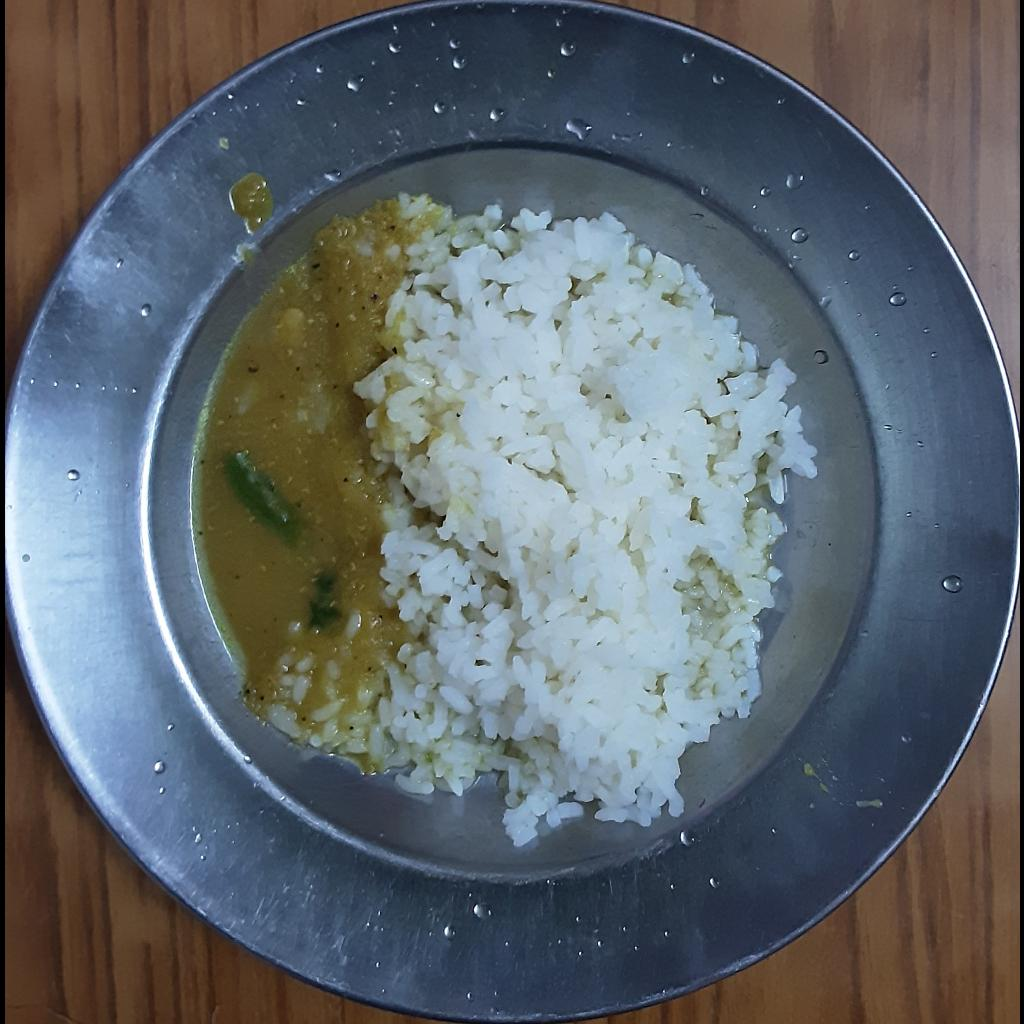daal: (186, 188, 414, 714)
rice: (257, 196, 815, 843)
